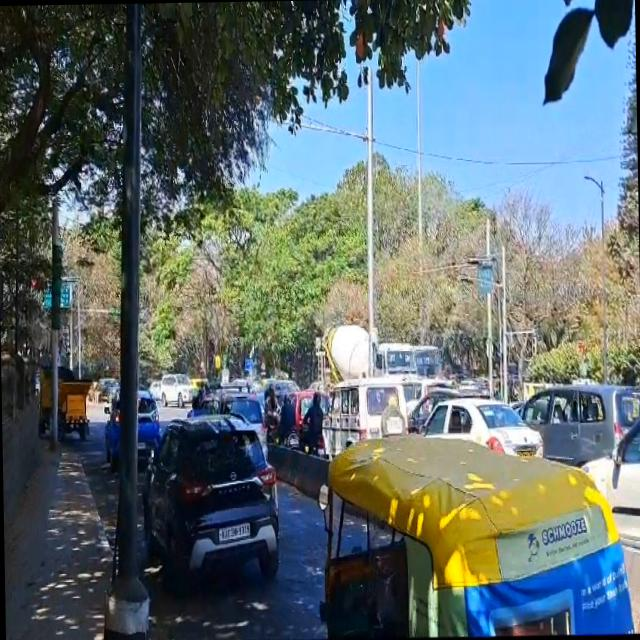cars: (141, 414, 283, 591), (527, 383, 640, 478), (417, 398, 544, 476), (322, 377, 409, 462), (160, 375, 197, 411)
